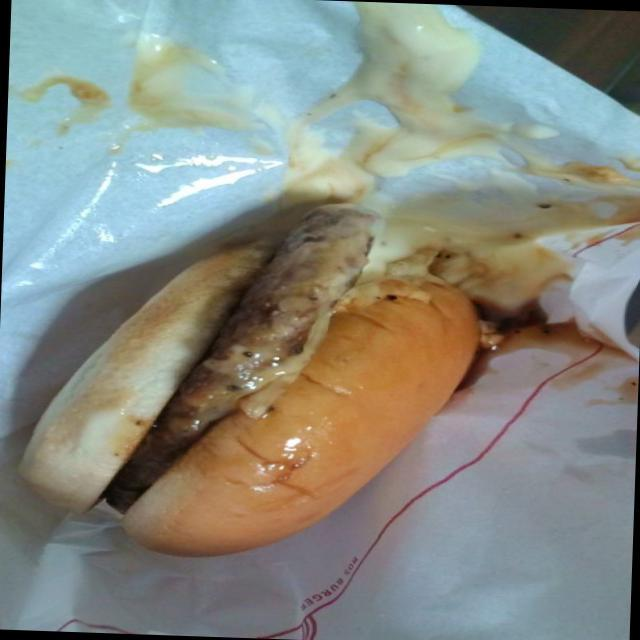Hamburger: (13, 212, 474, 553)
